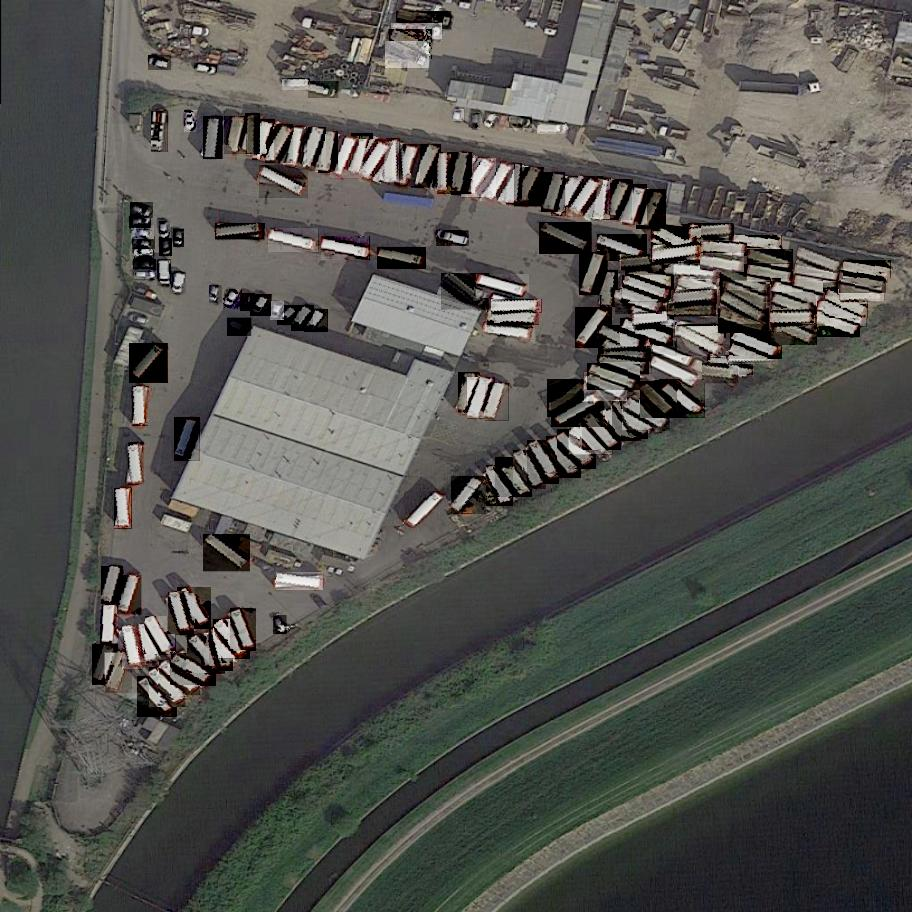large-vehicle: (551, 393, 604, 430), (442, 272, 489, 313), (203, 534, 250, 574), (404, 490, 446, 534), (661, 379, 705, 421), (137, 676, 178, 720), (653, 356, 704, 391), (622, 396, 670, 433), (721, 264, 770, 300), (548, 379, 592, 419), (651, 224, 701, 259), (539, 222, 591, 255), (730, 329, 782, 362), (259, 165, 308, 200), (721, 289, 770, 324), (495, 454, 532, 500), (129, 343, 168, 385), (187, 633, 226, 675), (149, 666, 187, 709), (159, 659, 202, 697), (576, 306, 612, 351), (546, 435, 581, 481), (558, 430, 597, 471), (213, 618, 251, 660), (584, 411, 622, 453), (621, 317, 674, 347), (587, 363, 640, 393), (677, 326, 725, 359), (613, 397, 649, 441), (647, 341, 697, 372), (568, 175, 604, 218), (359, 139, 394, 183), (172, 652, 216, 687), (771, 281, 824, 310), (598, 325, 646, 357), (640, 381, 679, 420), (177, 587, 212, 630), (569, 424, 613, 458), (598, 234, 647, 264), (462, 158, 496, 201), (584, 371, 628, 404), (771, 316, 817, 347), (599, 411, 642, 444), (528, 441, 560, 485), (476, 273, 530, 299), (718, 307, 770, 334), (451, 475, 486, 515), (482, 162, 515, 204), (513, 449, 546, 491), (615, 289, 666, 316), (622, 276, 671, 304), (412, 144, 442, 189), (817, 301, 867, 328), (772, 292, 818, 321), (468, 376, 497, 422), (603, 179, 634, 222), (269, 228, 320, 254), (331, 136, 361, 180), (389, 29, 433, 59), (797, 245, 844, 273), (580, 252, 609, 297), (385, 41, 430, 70), (723, 281, 771, 308), (321, 236, 372, 261), (552, 176, 583, 217), (747, 250, 794, 277), (636, 189, 666, 231), (825, 290, 868, 319), (395, 144, 422, 190), (299, 127, 327, 171), (174, 416, 202, 460), (514, 167, 544, 208), (265, 123, 295, 164), (146, 616, 176, 657), (626, 265, 675, 290), (486, 465, 514, 508), (840, 270, 888, 295), (230, 609, 256, 654), (168, 592, 194, 637), (622, 183, 649, 226), (93, 644, 120, 686), (105, 652, 132, 694), (598, 355, 649, 377), (483, 322, 536, 343), (209, 627, 233, 673), (378, 248, 428, 270), (541, 171, 566, 214), (396, 11, 452, 30), (678, 274, 724, 297), (253, 119, 278, 161), (815, 315, 860, 338), (747, 264, 794, 286), (118, 575, 143, 615), (692, 364, 739, 385), (352, 133, 374, 177), (459, 372, 481, 415), (486, 382, 509, 423), (451, 152, 472, 196), (795, 263, 841, 283), (123, 625, 143, 671), (102, 566, 125, 606), (276, 573, 324, 592), (224, 115, 246, 156), (708, 355, 753, 375), (392, 23, 443, 40), (844, 260, 892, 278), (204, 115, 223, 160), (651, 246, 701, 263), (287, 126, 307, 168), (138, 623, 158, 664), (592, 177, 611, 220), (318, 131, 337, 174), (215, 224, 265, 240), (735, 236, 782, 253), (688, 223, 734, 240), (668, 265, 719, 280), (621, 255, 665, 272), (700, 255, 744, 272), (128, 442, 145, 486), (115, 488, 133, 529), (701, 241, 747, 257), (487, 312, 539, 326), (101, 604, 119, 644), (675, 324, 726, 338), (152, 111, 169, 153), (601, 269, 619, 308), (132, 386, 149, 426), (506, 163, 522, 205), (794, 277, 838, 292), (245, 113, 261, 154), (492, 300, 541, 313), (673, 290, 718, 304), (633, 311, 677, 325), (667, 304, 716, 316), (730, 352, 778, 364), (604, 349, 651, 361), (437, 153, 451, 193), (771, 312, 815, 324), (387, 139, 399, 182), (841, 289, 884, 301)
small-vehicle: (292, 304, 315, 331), (305, 308, 329, 333), (436, 230, 469, 247), (309, 81, 340, 99), (250, 293, 272, 318), (278, 304, 300, 327), (228, 318, 253, 338), (149, 54, 173, 73), (170, 271, 188, 296), (224, 288, 243, 310), (130, 202, 154, 219), (131, 225, 154, 241), (157, 260, 171, 286), (270, 301, 286, 322), (483, 113, 500, 132), (132, 236, 155, 250), (195, 63, 218, 77), (240, 292, 255, 313), (509, 116, 533, 129), (184, 110, 197, 133), (283, 79, 310, 90), (133, 259, 157, 271), (274, 613, 287, 635), (210, 285, 224, 304), (129, 217, 151, 229), (538, 125, 566, 134), (135, 247, 155, 259), (160, 238, 172, 256), (174, 229, 185, 248), (159, 221, 170, 239), (134, 272, 155, 280), (472, 113, 480, 128), (454, 110, 464, 121)
